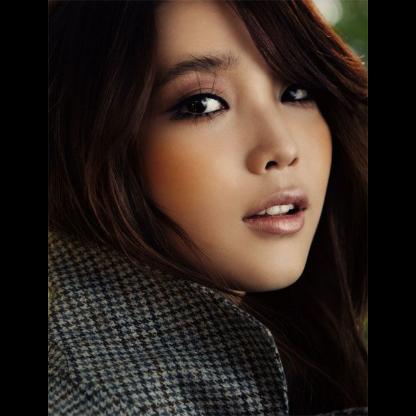Female: (138, 0, 334, 290)
